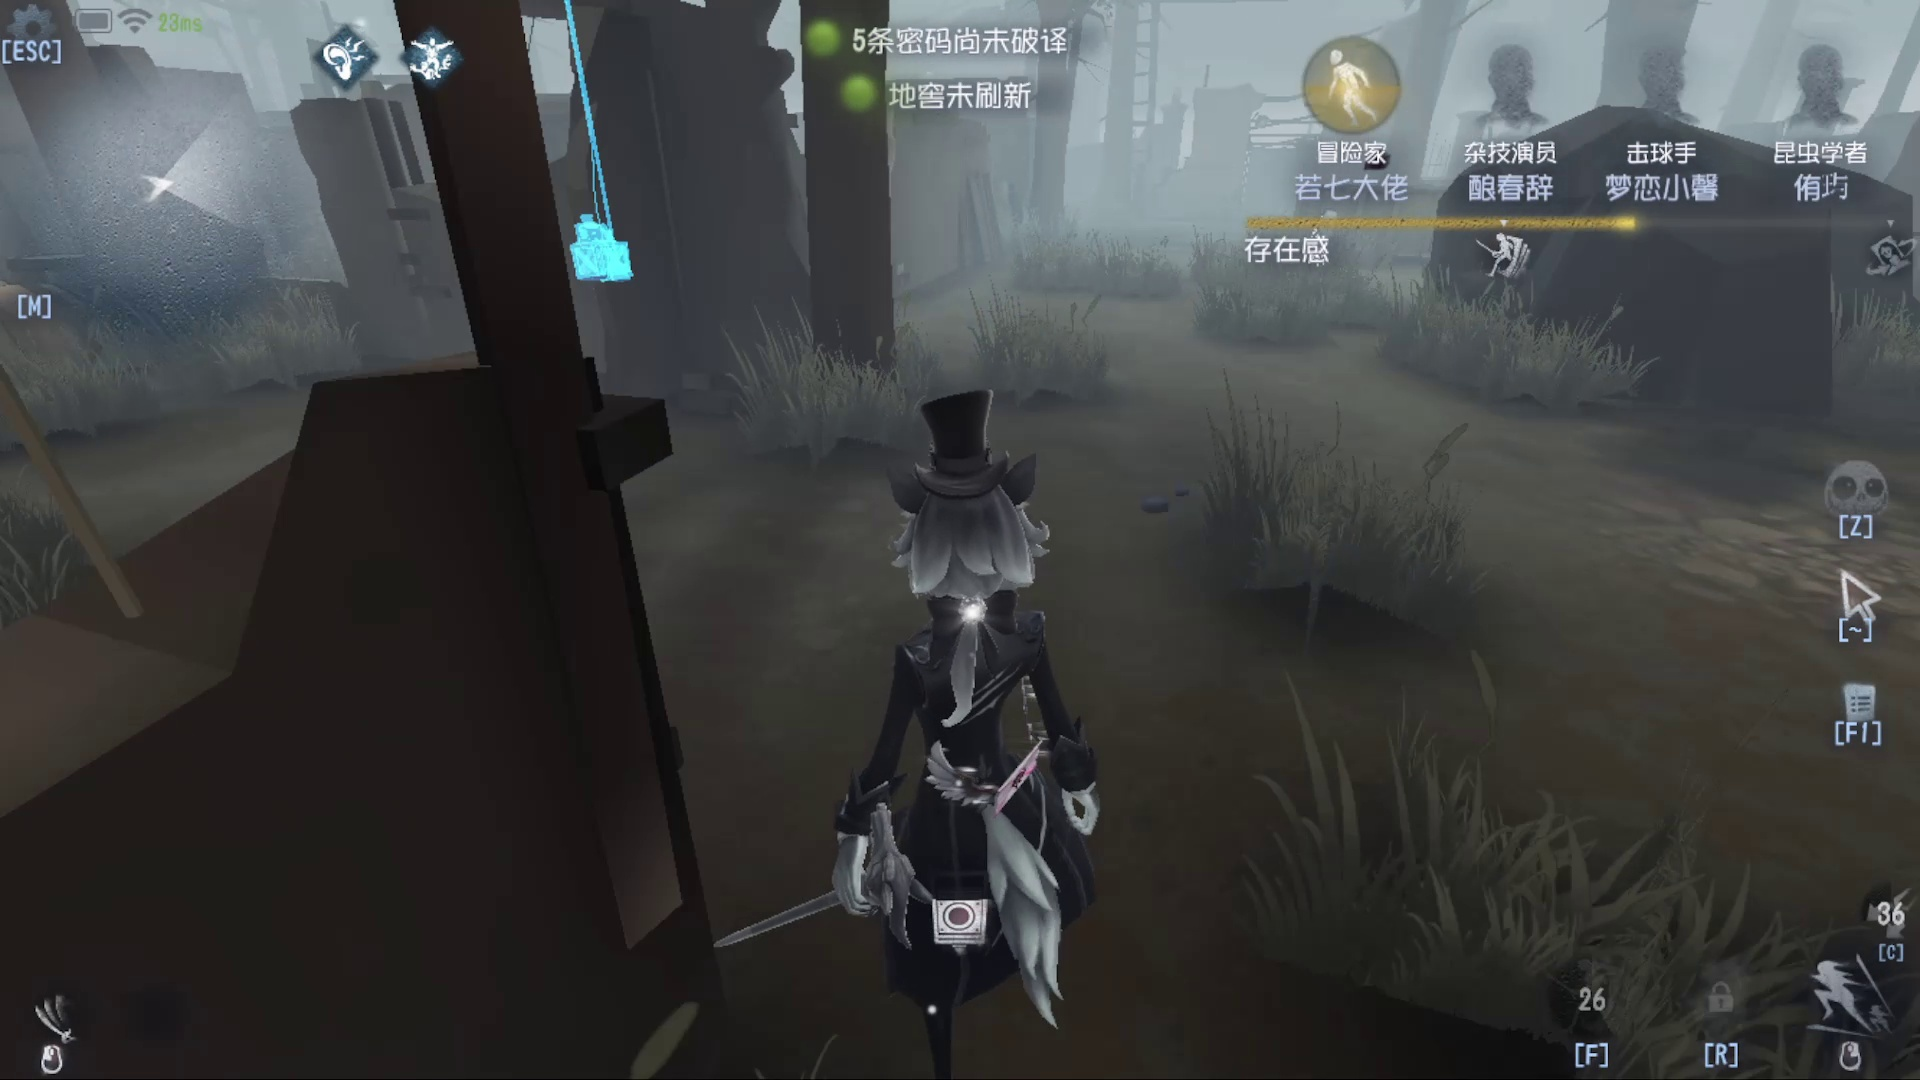密码机: (496, 1, 676, 310)
